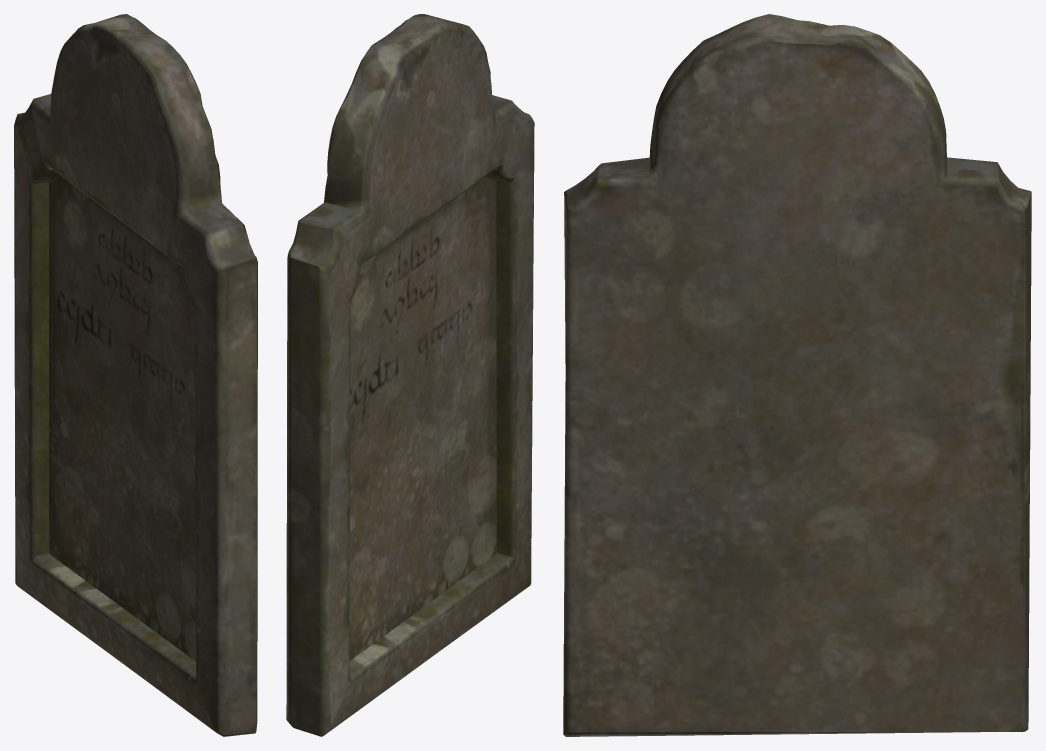
The model's file is SM_TombsA_001.fbx.
The picture shows the model from 3 angles, left to right: view 1: azimuth 30°, elevation 25°; view 2: azimuth 150°, elevation 25°; view 3: azimuth 270°, elevation 25°; orthographic projection. The views are drawn at different scales.
Visible parts, largest first — view 1: SM_TombsA_001_LOD0; view 2: SM_TombsA_001_LOD0; view 3: SM_TombsA_001_LOD0.
Part boxes in pixels (left/top/right/bottom): SM_TombsA_001_LOD0: left=14, top=14, right=257, bottom=736; SM_TombsA_001_LOD0: left=286, top=14, right=534, bottom=736; SM_TombsA_001_LOD0: left=563, top=14, right=1031, bottom=736.
Bounding box in the file's own units: 3.49 × 27.03 × 44.94.
Materials: 1 (1 with a texture image).
